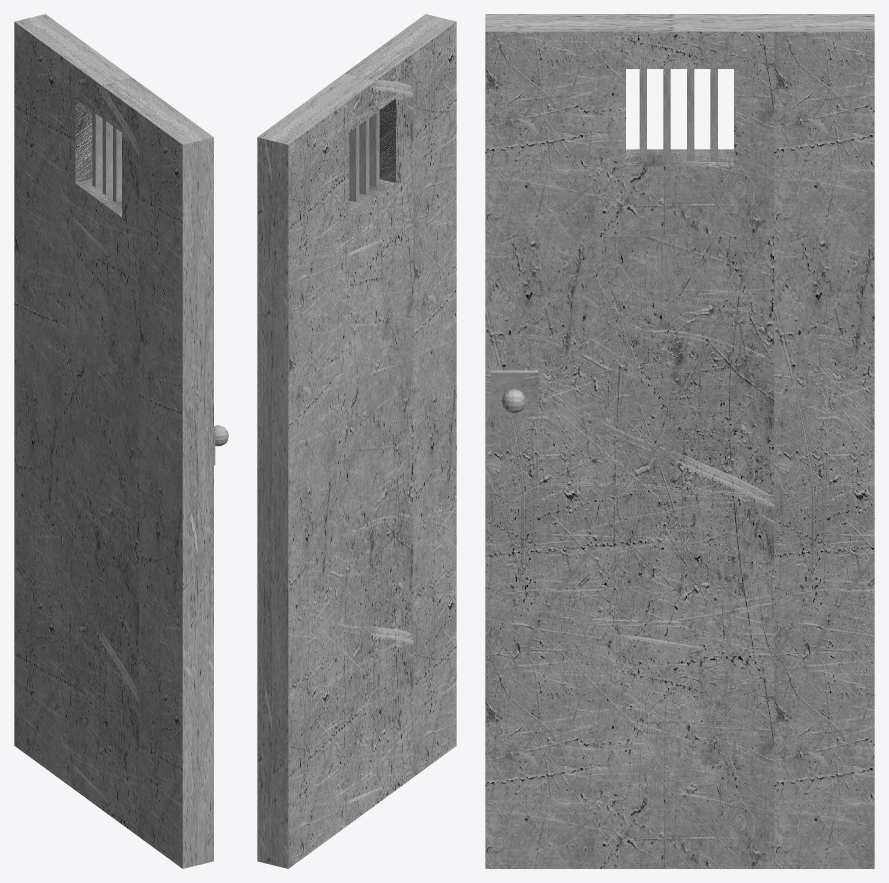
The model's file is door.glb.
The picture shows the model from 3 angles, left to right: view 1: azimuth 30°, elevation 25°; view 2: azimuth 150°, elevation 25°; view 3: azimuth 270°, elevation 25°; orthographic projection. The views are drawn at different scales.
Parts seen in each view (by area): view 1: door-col; view 2: door-col; view 3: door-col.
Boxes of the visible parts, x1=… form: door-col: x1=14, y1=14, x2=228, y2=868; door-col: x1=257, y1=14, x2=456, y2=868; door-col: x1=485, y1=14, x2=874, y2=868.
Bounding box in the file's own units: 0.1716 × 2.09 × 0.8809.
Materials: 2 (2 with a texture image).
